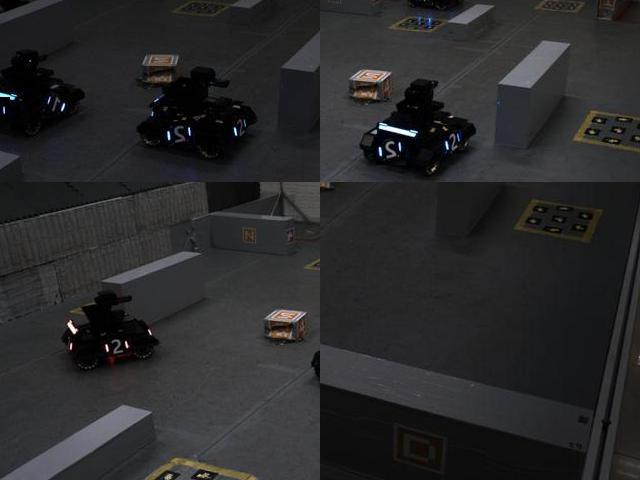armor: (223, 114, 253, 145), (377, 137, 408, 167), (165, 120, 195, 149), (100, 334, 134, 358), (42, 93, 70, 120), (439, 129, 464, 157), (0, 97, 12, 131), (414, 0, 436, 8)
